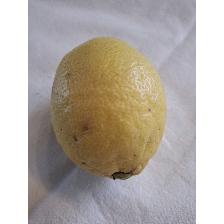Zitrone: (49, 34, 169, 182)
